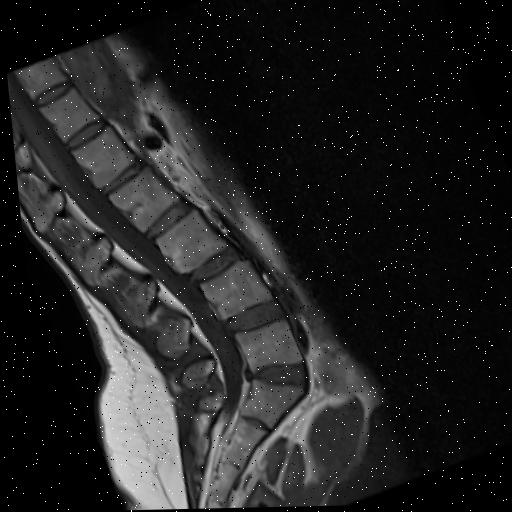L1: (70, 127, 132, 188)
L2: (105, 167, 175, 232)
L3: (151, 210, 221, 275)
L4: (194, 261, 267, 321)
L5: (230, 323, 296, 375)
S1: (233, 382, 295, 430)
